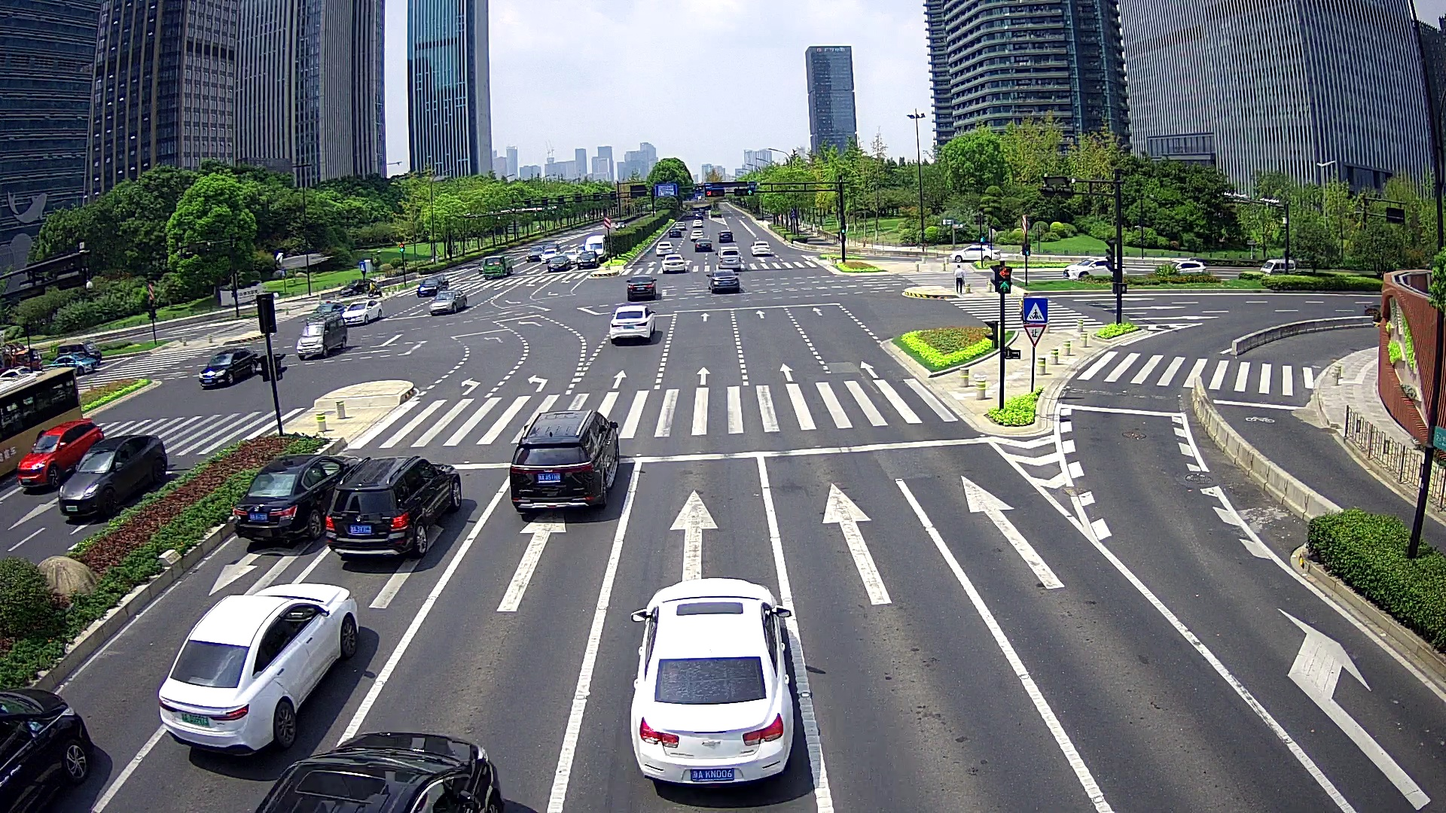person: (953, 260, 970, 298)
vehicle: (627, 571, 803, 797), (156, 577, 362, 752), (320, 447, 465, 565), (504, 406, 624, 518), (227, 448, 360, 546), (55, 431, 170, 522), (17, 415, 107, 495), (292, 309, 349, 361), (196, 345, 262, 389), (604, 303, 657, 345), (337, 295, 386, 328), (425, 288, 470, 318), (706, 269, 741, 294), (624, 273, 657, 295)
